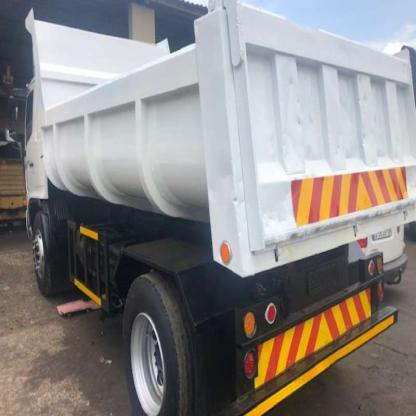dump_truck: (10, 8, 412, 413)
